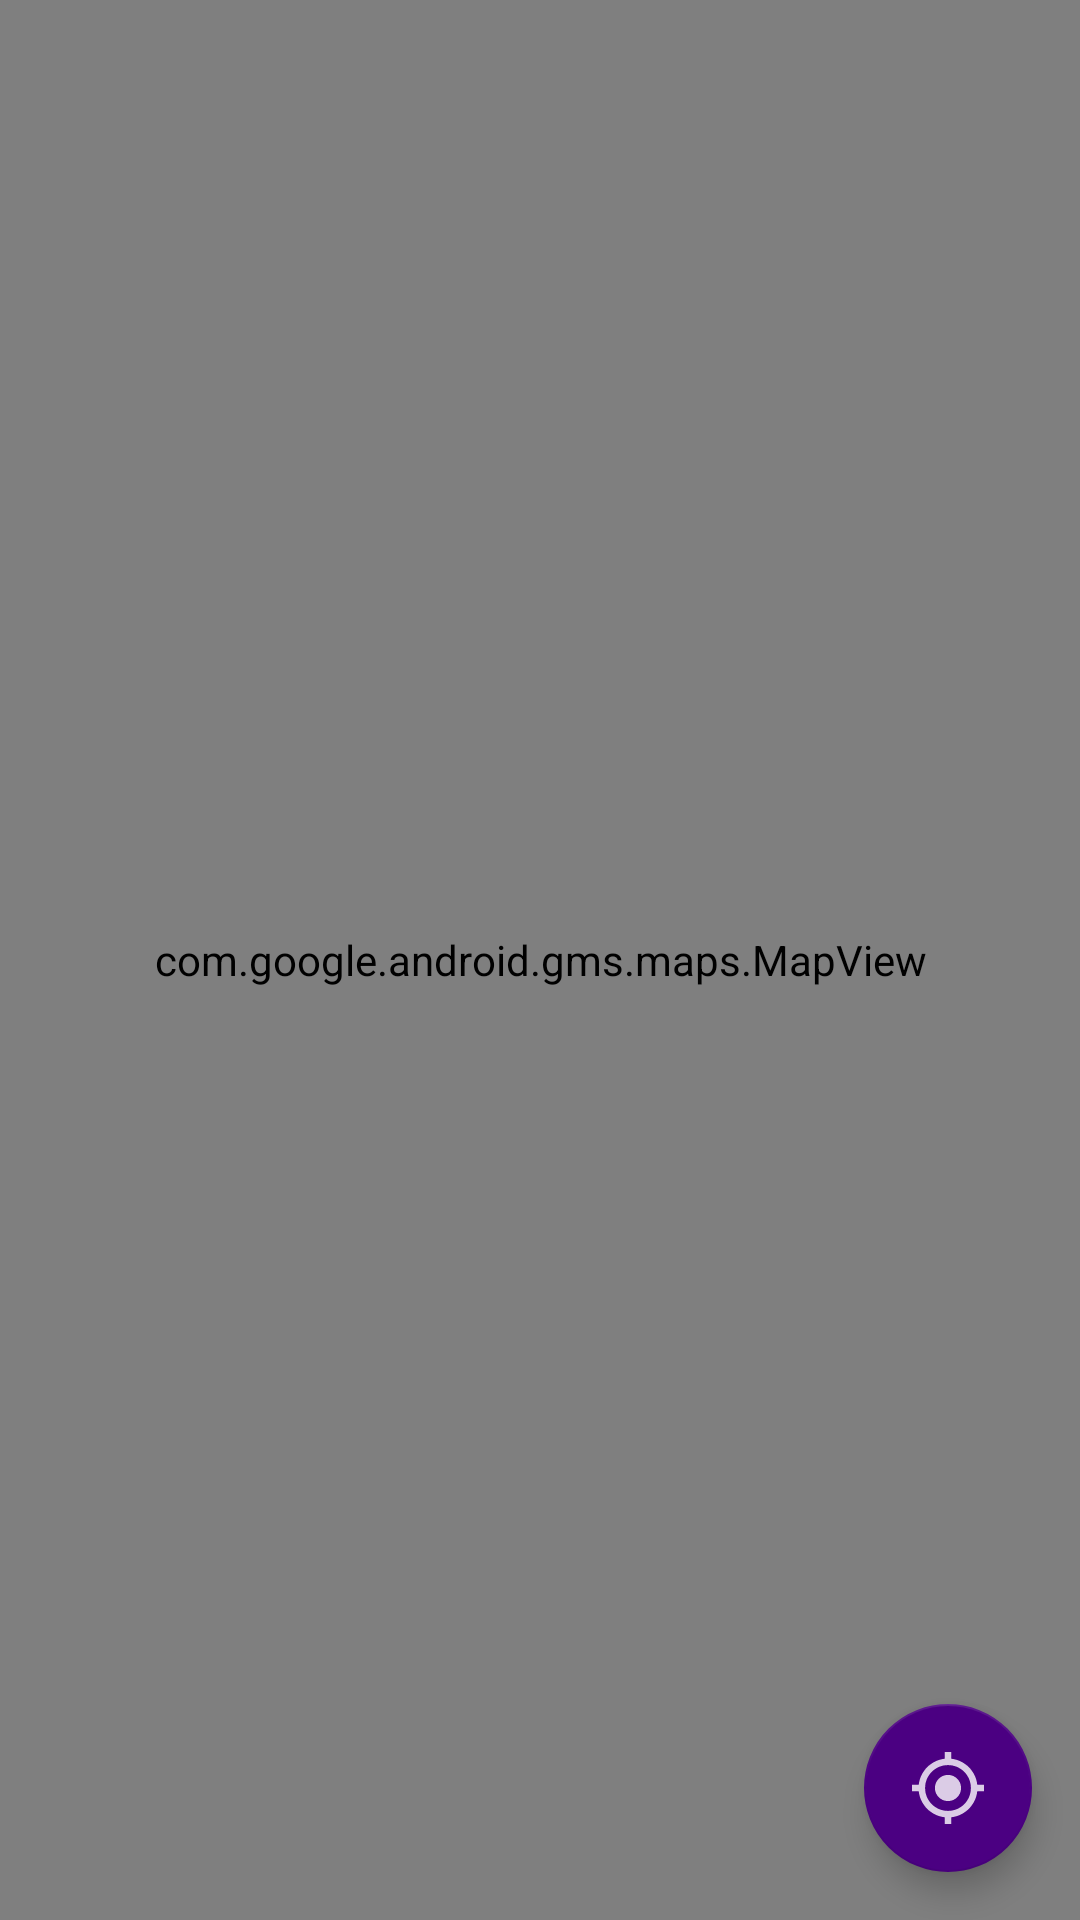

Icons on this 1080px x 1920px Android screen, each with the point to tap as (x=x, y=y):
location: (x=948, y=1788)
